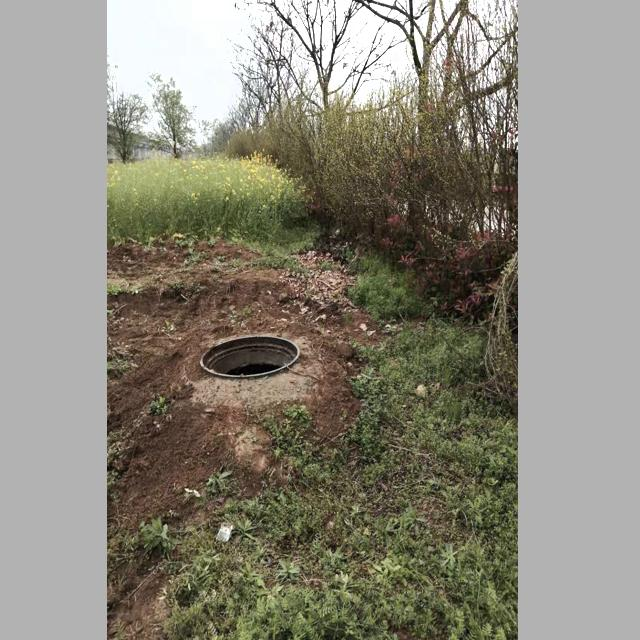lose: (195, 329, 311, 398)
